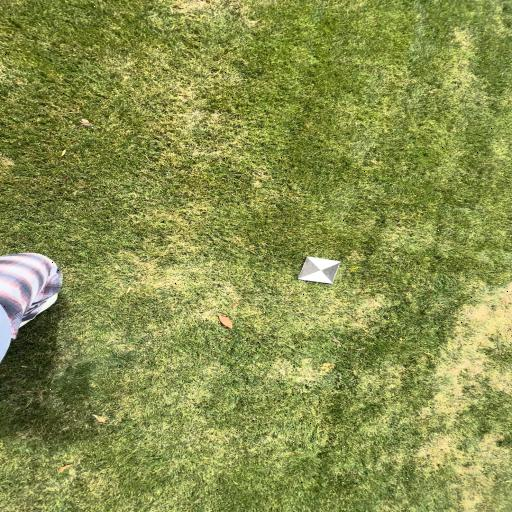target: (299, 256, 341, 284)
